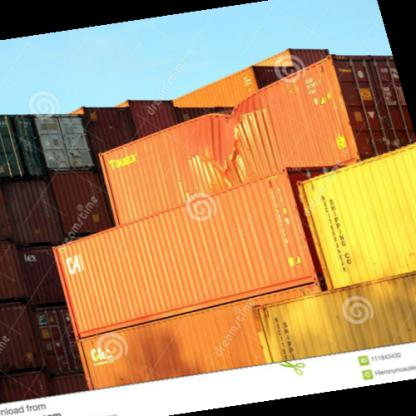Damage: (206, 104, 254, 172)
